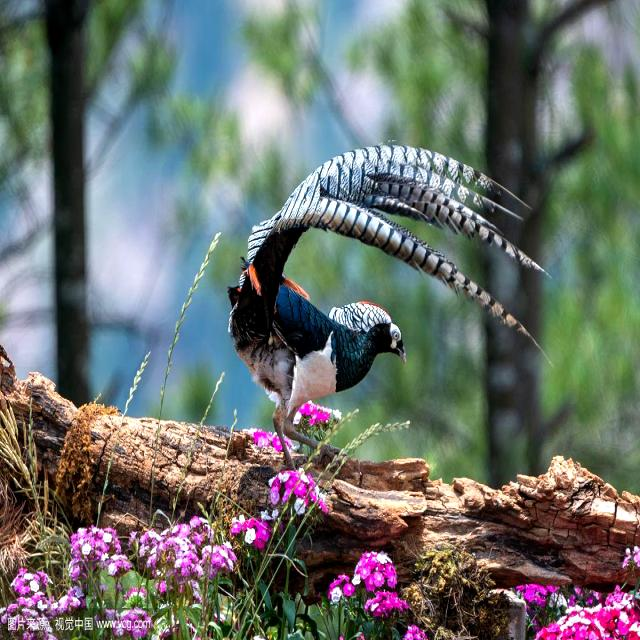Chrysolophus amherstiae: (247, 145, 542, 337)
